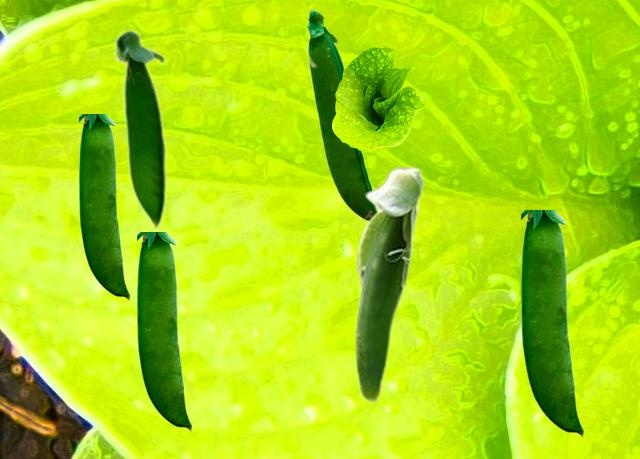pea: (354, 166, 424, 402), (306, 8, 373, 220), (521, 210, 583, 437), (113, 28, 166, 232), (137, 232, 191, 431), (79, 114, 129, 300)
